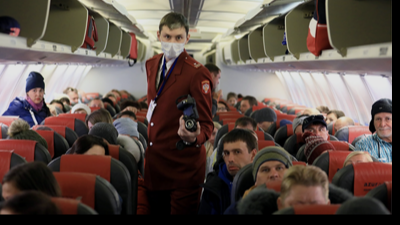with_mask: (161, 32, 186, 58)
without_mask: (225, 142, 249, 175), (374, 116, 391, 139), (27, 88, 45, 103), (211, 75, 221, 91)
